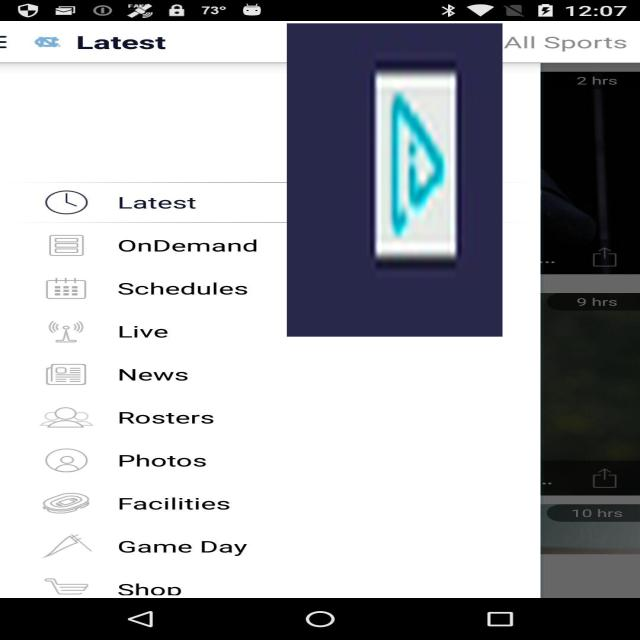sneaking: (287, 23, 502, 337)
